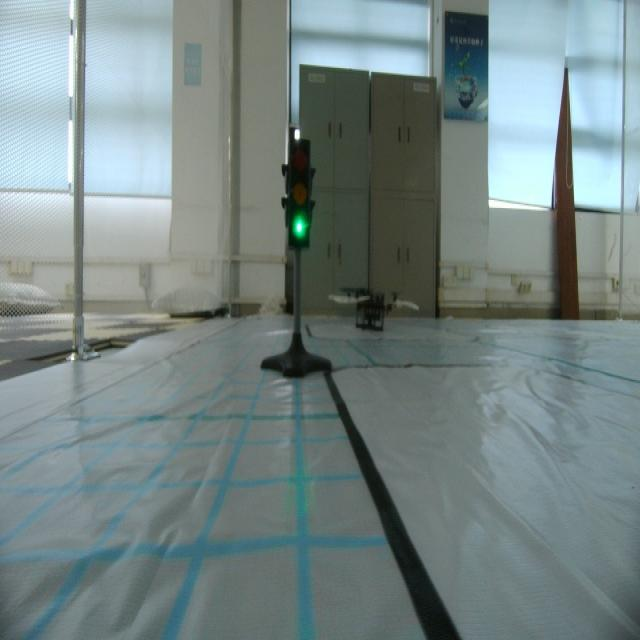green: (281, 136, 314, 262)
